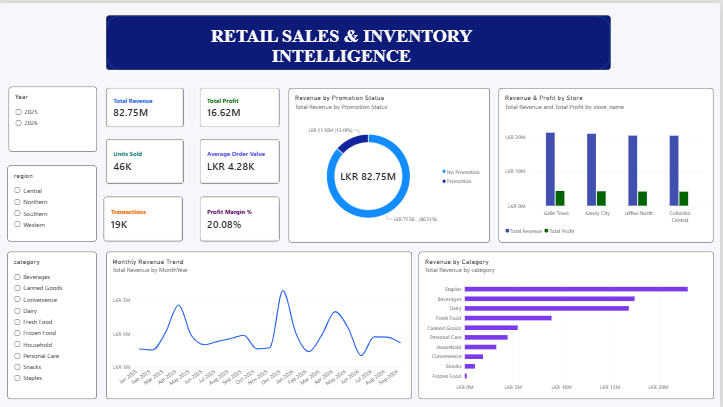

The dashboard page shown, as its layout file describes it:
{"tool":"powerbi","page":{"name":"Executive Overview","canvas":[1920,1080],"ordinal":0},"visuals":[{"type":"textbox","box":[545,32.5,695,155],"z":0},{"type":"cardVisual","fields":{"Data":["_Measures.Total Revenue"]},"box":[282,226,206,104],"z":1000},{"type":"cardVisual","fields":{"Data":["_Measures.Total Profit"]},"box":[532,226,212,104],"z":2000},{"type":"cardVisual","fields":{"Data":["_Measures.Profit Margin %"]},"box":[532,516,212,118],"z":3000},{"type":"cardVisual","fields":{"Data":["_Measures.Transactions"]},"box":[278,516,210,118],"z":4000},{"type":"cardVisual","fields":{"Data":["_Measures.Units Sold"]},"box":[282,362,206,118],"z":5000},{"type":"cardVisual","fields":{"Data":["_Measures.Average Order Value"]},"box":[532,362,212,118],"z":6000},{"type":"listSlicer","fields":{"Values":["Sales.category"]},"box":[20,662.5,237.5,392.5],"z":7000},{"type":"listSlicer","fields":{"Values":["Sales.region"]},"box":[20,432.5,237.5,202.5],"z":8000},{"type":"listSlicer","fields":{"Values":["DimDate.Year"]},"box":[22.5,222.5,235,172.5],"z":9000},{"type":"lineChart","title":"Monthly Revenue Trend","fields":{"Category":["DimDate.MonthYear"],"Y":["_Measures.Total Revenue"]},"box":[282.5,662.5,815,392.5],"z":10000},{"type":"clusteredBarChart","title":"Revenue by Category","fields":{"Category":["Sales.category"],"Y":["_Measures.Total Revenue"]},"box":[1115,662.5,787.5,392.5],"z":11000},{"type":"clusteredColumnChart","title":"Revenue & Profit by Store","fields":{"Category":["Sales.store_name"],"Y":["_Measures.Total Revenue","_Measures.Total Profit"]},"box":[1330,226,572,412],"z":12000},{"type":"donutChart","title":"Revenue by Promotion Status","fields":{"Category":["Sales.Promotion Status"],"Y":["_Measures.Total Revenue"]},"box":[770,226,536,412],"z":13000},{"type":"textbox","box":[1200,330,150,368],"z":14000},{"type":"shape","box":[282.5,32.5,1345,145],"z":15000},{"type":"textbox","box":[432.5,60,955,117.5],"z":16000}]}

Visuals, with their boxes in screenshot pixels (x1, y1, x2, y2), scaled from the page's 1920x1080 canvas onto the 723x407 screenshot:
textbox: [205, 12, 467, 71]
cardVisual - _Measures.Total Revenue: [106, 85, 184, 124]
cardVisual - _Measures.Total Profit: [200, 85, 280, 124]
cardVisual - _Measures.Profit Margin %: [200, 194, 280, 239]
cardVisual - _Measures.Transactions: [105, 194, 184, 239]
cardVisual - _Measures.Units Sold: [106, 136, 184, 181]
cardVisual - _Measures.Average Order Value: [200, 136, 280, 181]
listSlicer - Sales.category: [8, 250, 97, 398]
listSlicer - Sales.region: [8, 163, 97, 239]
listSlicer - DimDate.Year: [8, 84, 97, 149]
"Monthly Revenue Trend" lineChart: [106, 250, 413, 398]
"Revenue by Category" clusteredBarChart: [420, 250, 716, 398]
"Revenue & Profit by Store" clusteredColumnChart: [501, 85, 716, 240]
"Revenue by Promotion Status" donutChart: [290, 85, 492, 240]
textbox: [452, 124, 508, 263]
shape: [106, 12, 613, 67]
textbox: [163, 23, 522, 67]
